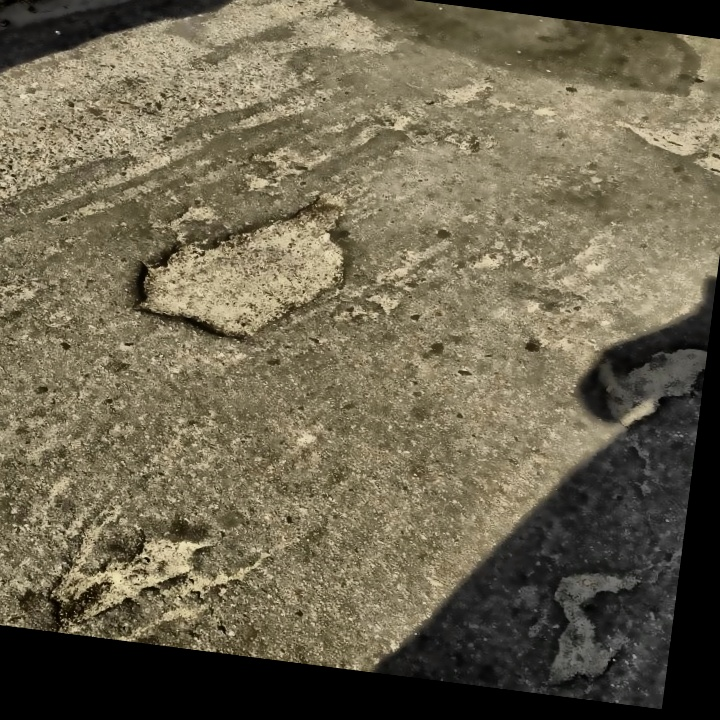pothole: (120, 164, 367, 357), (33, 514, 220, 650)
